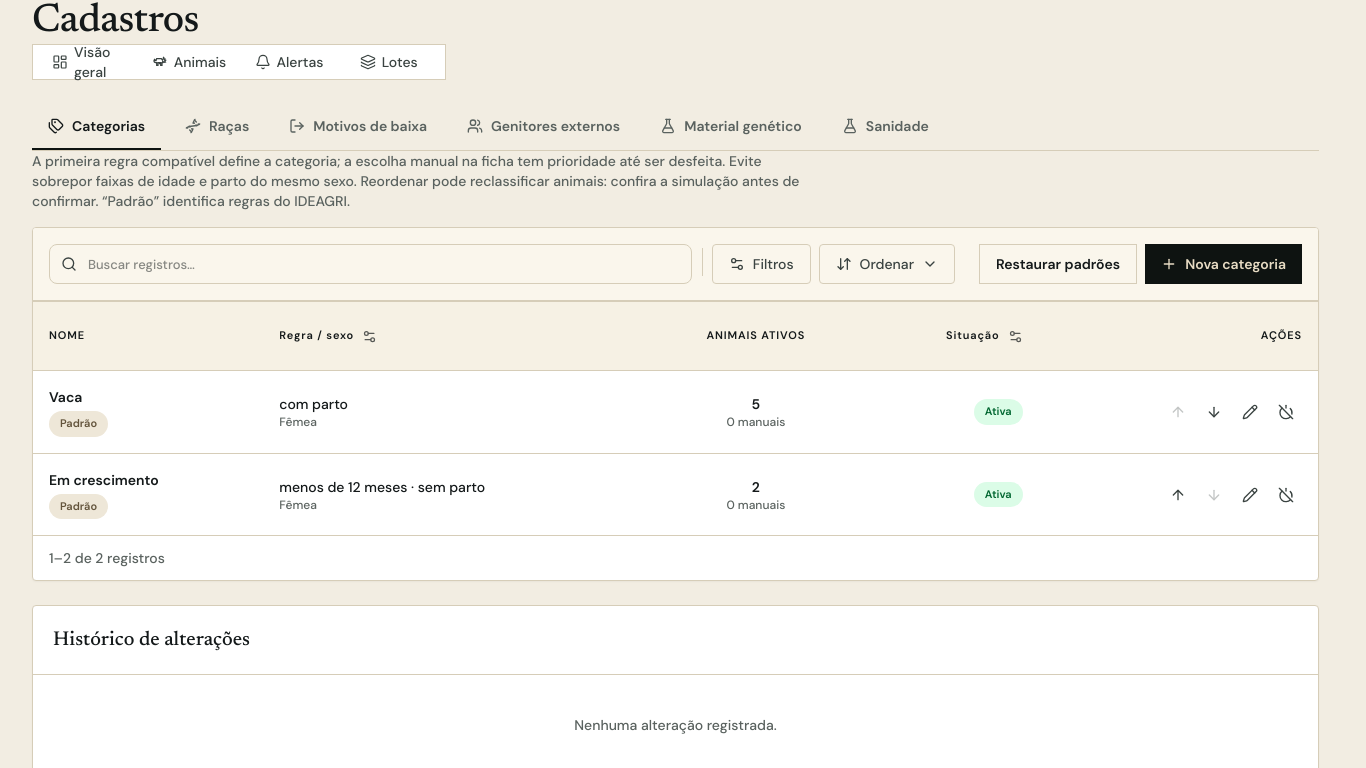
it: Cadastros do rebanho — categorias › editar abre o formulário com as idades e o critério de partos atuais
Click the button named "Editar Em crescimento" at (1250, 494), box [1234,476,1266,512]
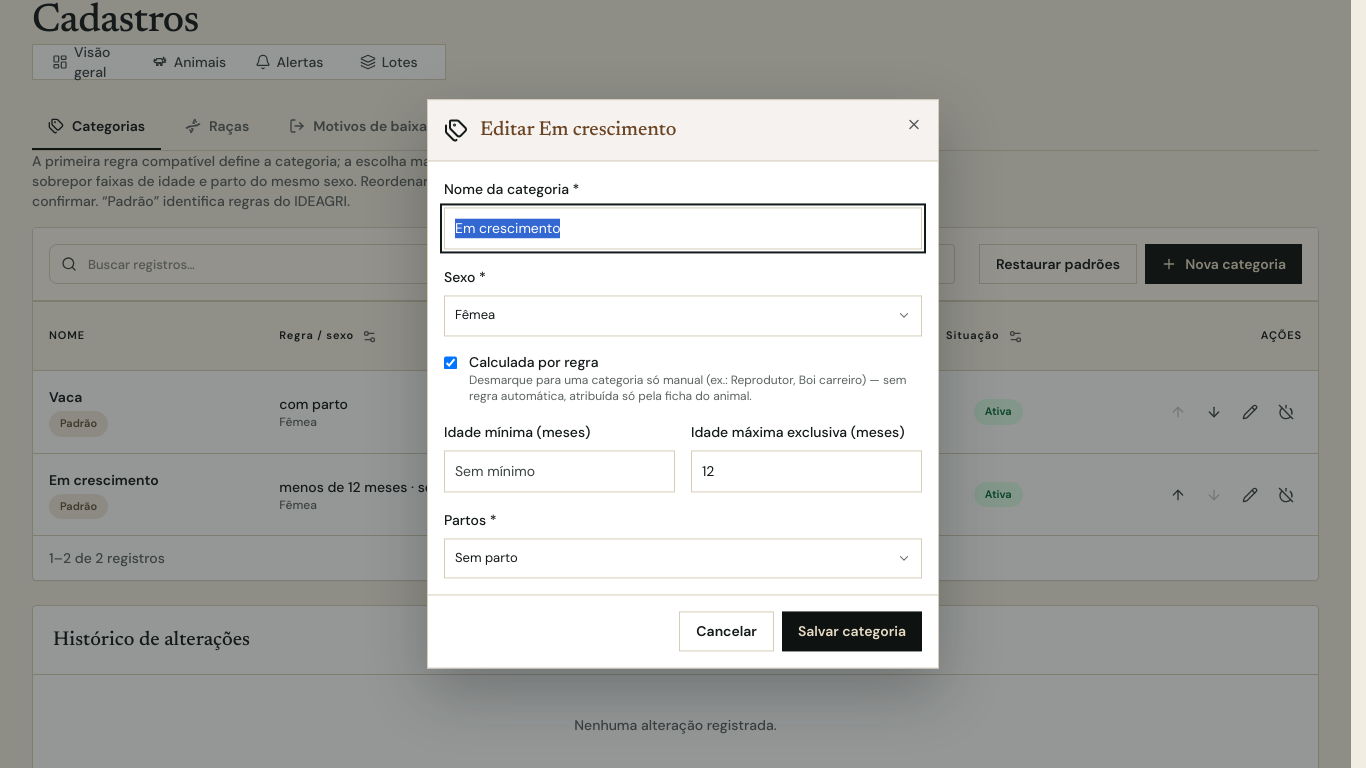
Expected: the number field labelled "Idade mínima (meses)" is empty, [444,450,675,492]
Expected: the number field labelled "Idade máxima exclusiva (meses)" holds "12", [691,450,922,492]
Expected: the dropdown named "Partos" holds "SEM", [444,538,922,579]
